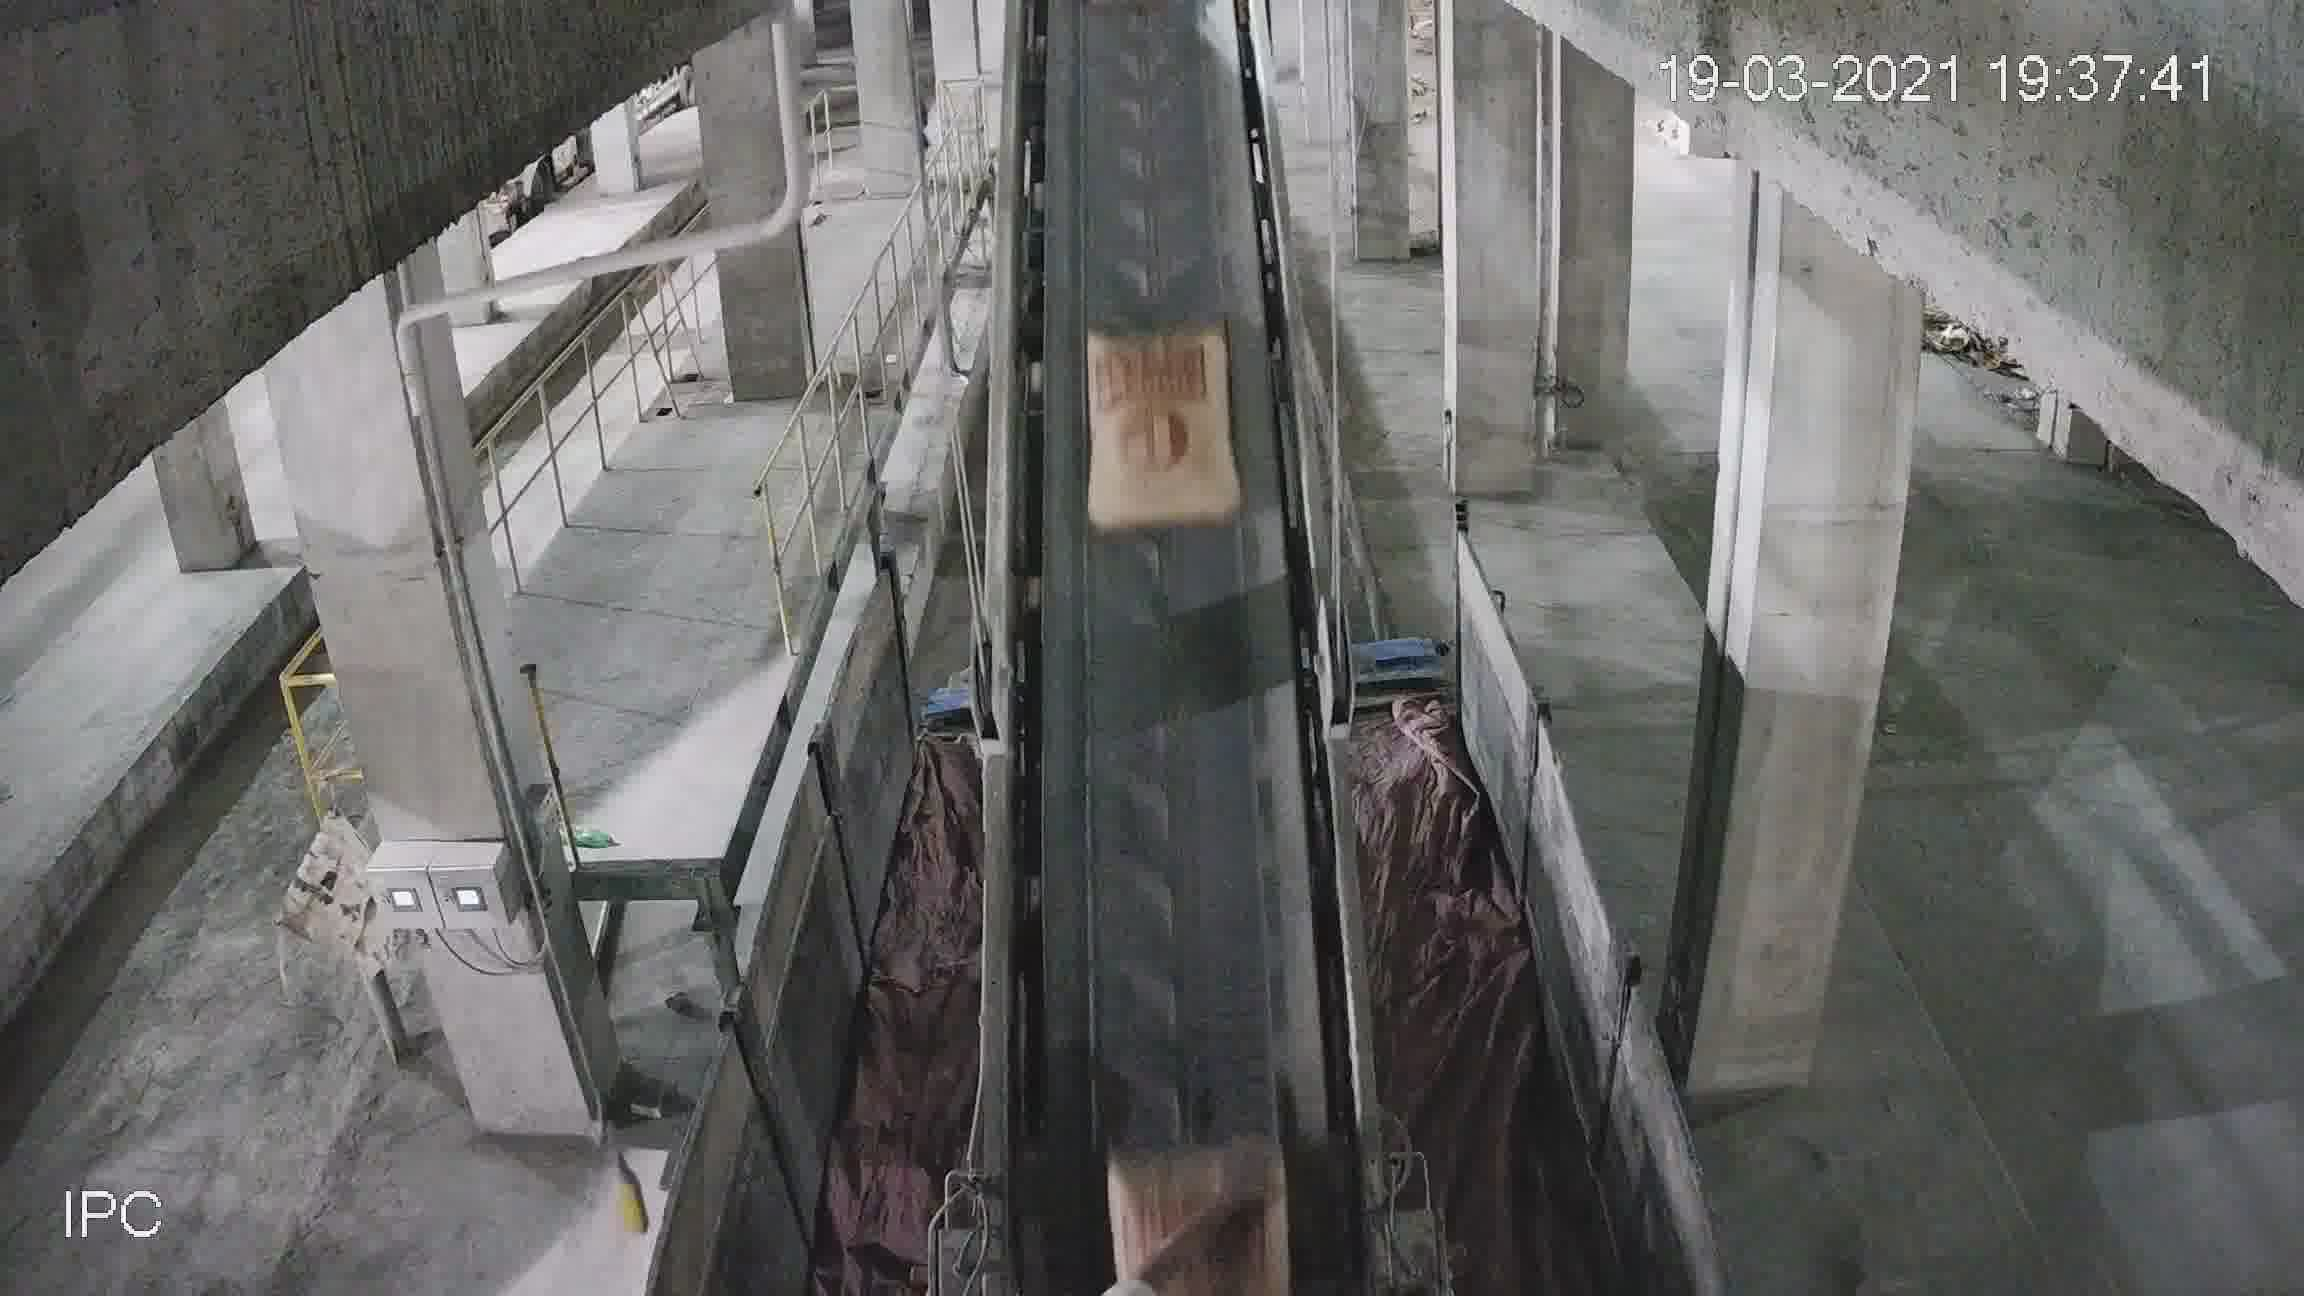bag: (1086, 334, 1234, 524), (1103, 1128, 1282, 1203)
belt: (976, 87, 1359, 1130)
